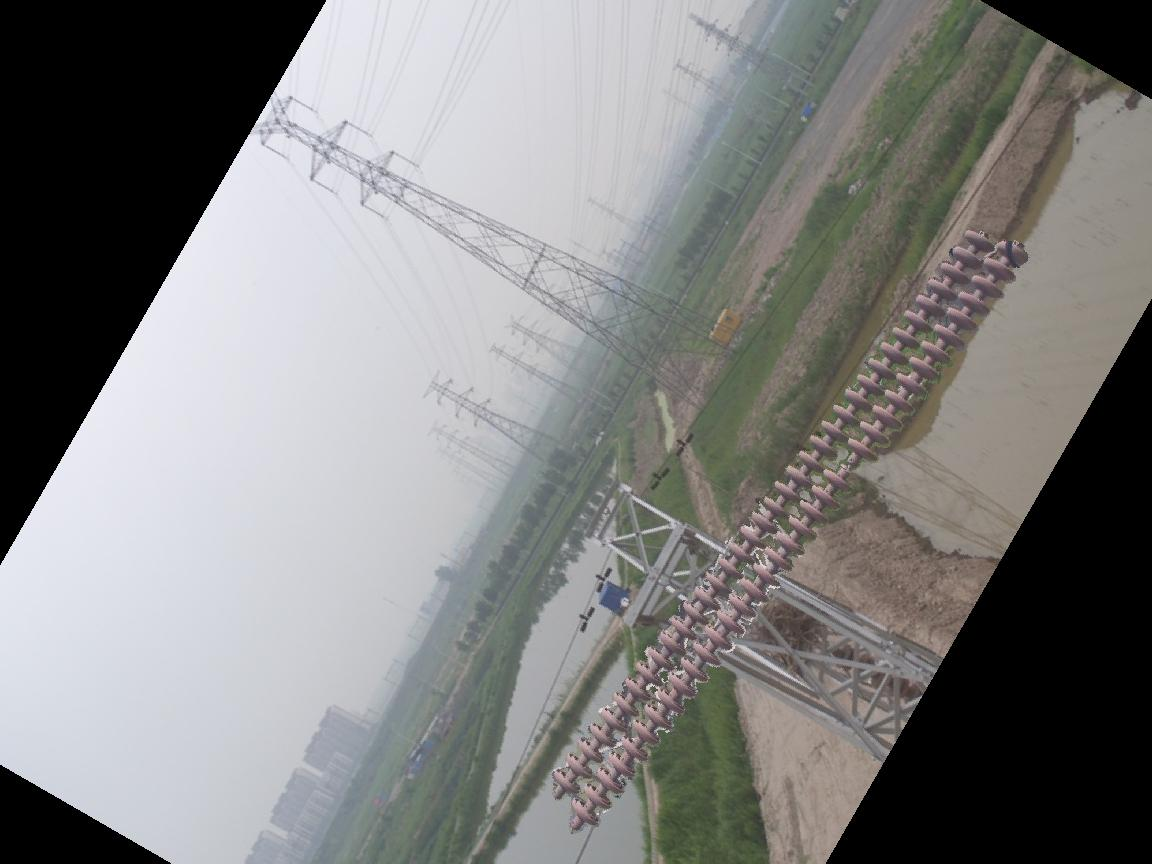insulator: (546, 224, 1032, 834), (831, 643, 921, 703)
insulator_stringdrop: (819, 434, 880, 494)
